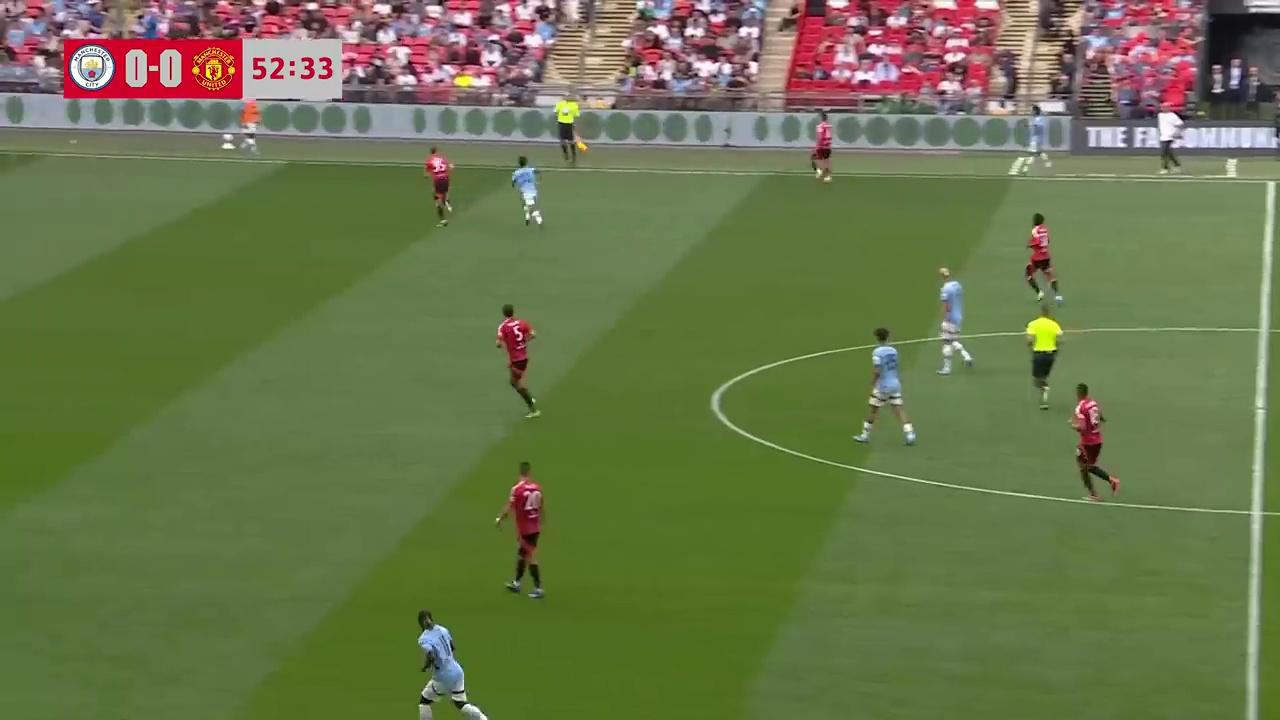player: (854, 327, 916, 445), (495, 462, 545, 600), (415, 608, 475, 717), (1068, 382, 1119, 502), (495, 305, 539, 419), (933, 269, 973, 375), (1022, 213, 1062, 302), (423, 147, 454, 225), (511, 155, 543, 228), (809, 115, 833, 182)
referee: (1023, 297, 1065, 410), (555, 94, 585, 166)
